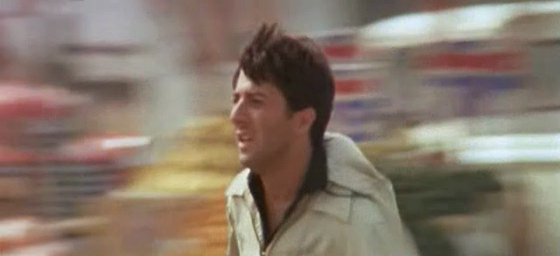face: (230, 68, 279, 160)
mcu: (1, 1, 560, 256)
person: (224, 19, 421, 256)
